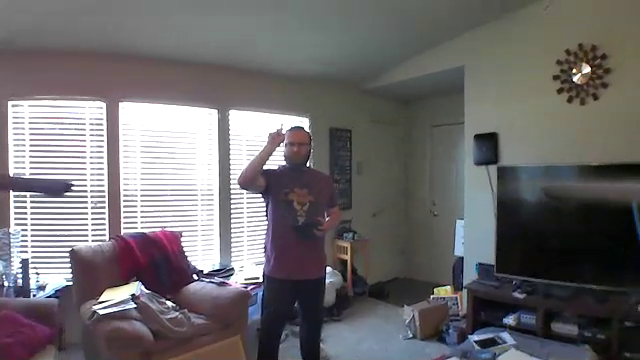up: (266, 119, 287, 146)
